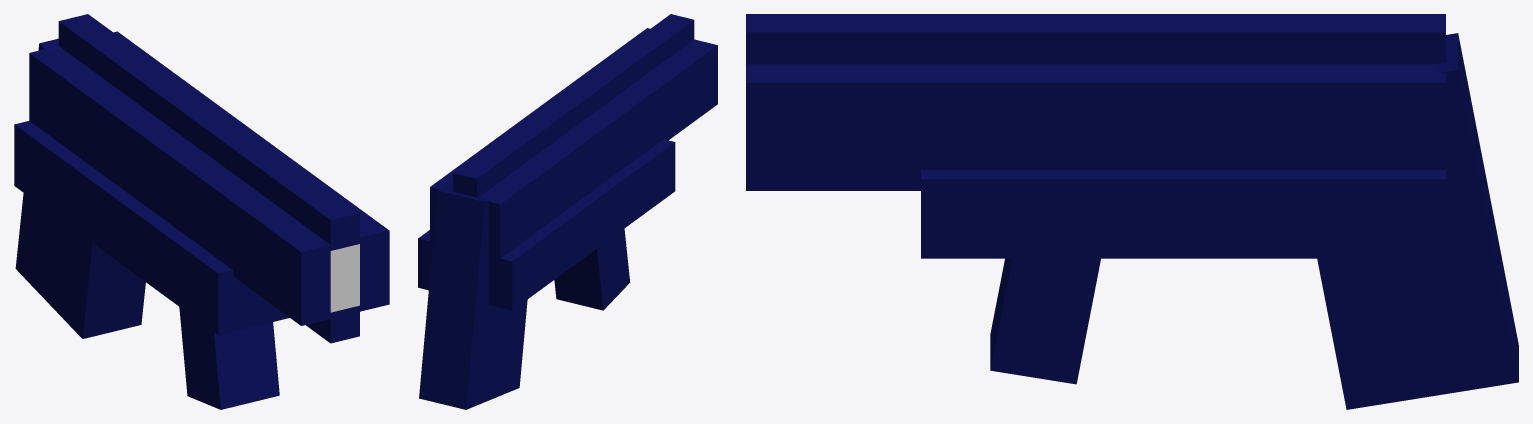
The model's file is GravityGun.fbx.
3 views of the same model, side by side, from view 1: azimuth 30°, elevation 25°; view 2: azimuth 150°, elevation 25°; view 3: azimuth 270°, elevation 25° (orthographic). The views are drawn at different scales.
Visible parts, largest first — view 1: Cube.003, Cube.007; view 2: Cube.003; view 3: Cube.003.
Boxes of the visible parts, left/top/right/bottom form: Cube.003: left=14, top=14, right=389, bottom=409; Cube.007: left=330, top=244, right=359, bottom=312; Cube.003: left=418, top=14, right=717, bottom=409; Cube.003: left=746, top=14, right=1518, bottom=409.
Size of the model in its own units: 40 by 92.87 by 177.
